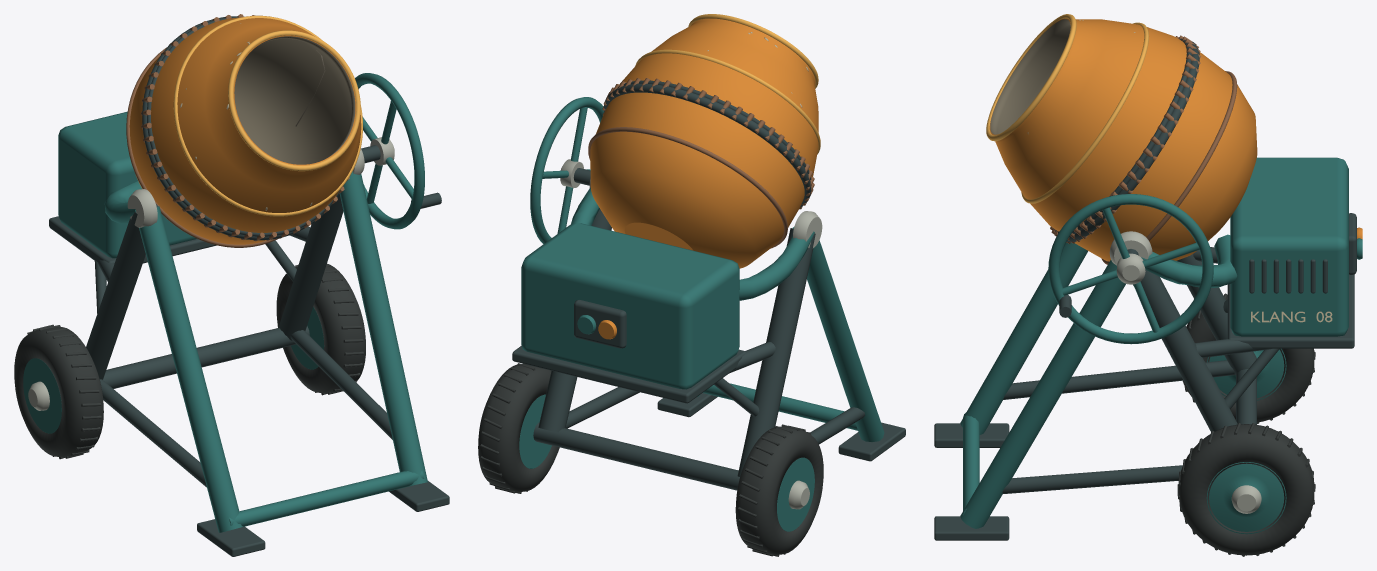
The picture shows the model from 3 angles, left to right: view 1: azimuth 30°, elevation 25°; view 2: azimuth 150°, elevation 25°; view 3: azimuth 270°, elevation 25°; orthographic projection. The views are drawn at different scales.
Visible parts, largest first — view 1: Welded frame, Drum, Road wheels, Motor housing, Drum hardware, Handwheel, Cradle; view 2: Drum, Motor housing, Welded frame, Road wheels, Drum hardware, Handwheel, Cradle; view 3: Drum, Welded frame, Motor housing, Road wheels, Handwheel, Drum hardware, Cradle.
Boxes of the visible parts, x1,y1,x2,y2 form: Welded frame: [86, 171, 449, 556]; Drum: [129, 17, 361, 244]; Road wheels: [14, 263, 365, 459]; Motor housing: [49, 111, 216, 263]; Drum hardware: [126, 14, 362, 247]; Handwheel: [355, 73, 441, 229]; Cradle: [104, 148, 364, 227]; Drum: [590, 18, 818, 268]; Motor housing: [512, 223, 746, 403]; Welded frame: [533, 209, 905, 490]; Road wheels: [478, 363, 823, 556]; Drum hardware: [588, 14, 820, 248]; Handwheel: [530, 97, 603, 243]; Cradle: [571, 179, 822, 300]; Drum: [989, 18, 1257, 261]; Welded frame: [934, 242, 1279, 540]; Motor housing: [1227, 157, 1362, 348]; Road wheels: [1177, 293, 1315, 556]; Handwheel: [1048, 194, 1213, 344]; Drum hardware: [986, 14, 1237, 264]; Cradle: [1109, 231, 1237, 287].
Size of the model in its own units: 0.866 by 1.17 by 0.9785.
